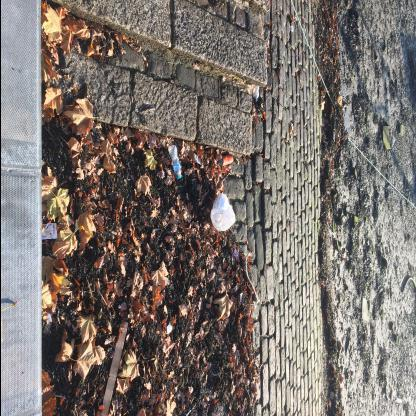karton: (168, 146, 182, 180)
plastik: (210, 195, 236, 232), (218, 155, 234, 168)
